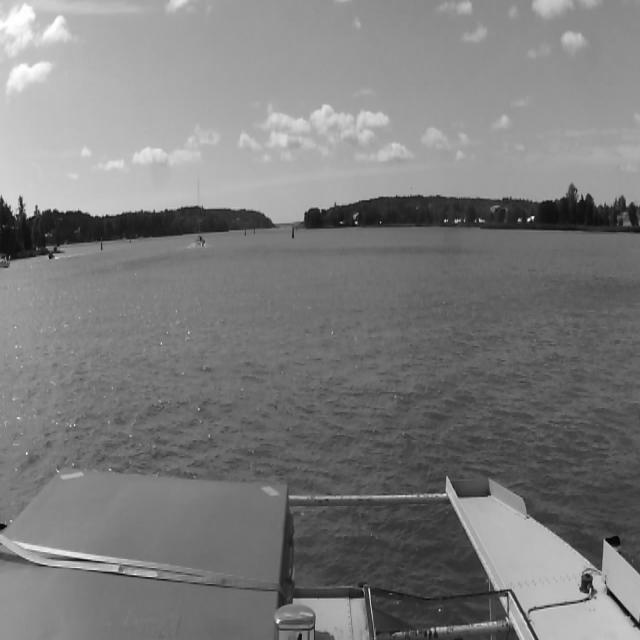ship: (193, 178, 206, 246), (0, 252, 12, 270)
